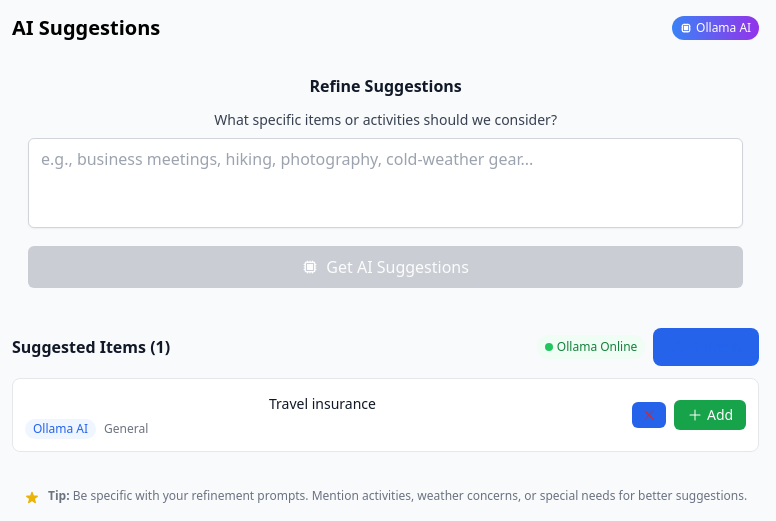
Test: SuggestionsPanel › can add suggestion to main packing list
Click the button with aria-label "Add Travel insurance to packing list": (710, 415) [674,400,746,430]
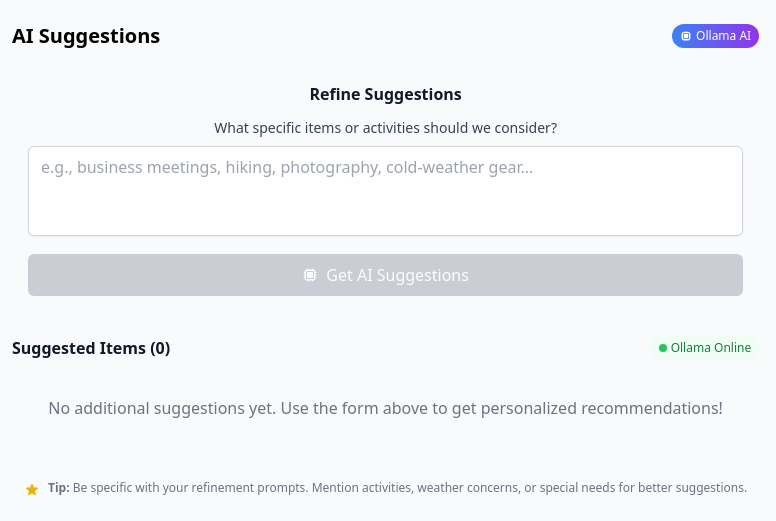
Now the text "Travel insurance" is gone
